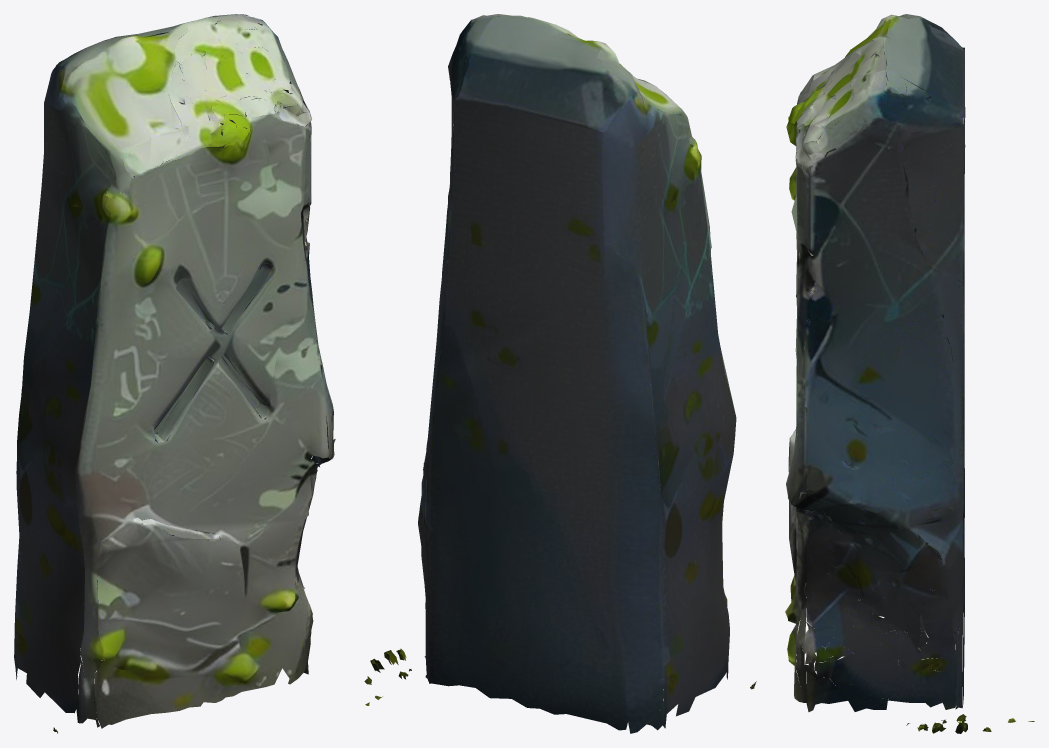
File: rock_menhir.glb
3 renders of one model, left to right at view 1: azimuth 30°, elevation 25°; view 2: azimuth 150°, elevation 25°; view 3: azimuth 270°, elevation 25°, orthographic. The views are drawn at different scales.
Visible parts, largest first — view 1: rock_menhir; view 2: rock_menhir; view 3: rock_menhir.
Boxes of the visible parts, <box> form: rock_menhir: <box>14,14,335,733</box>; rock_menhir: <box>364,14,756,733</box>; rock_menhir: <box>785,14,1034,733</box>.
Size of the model in its own units: 1.17 by 2.38 by 0.8471.
1 material, 1 textured.
